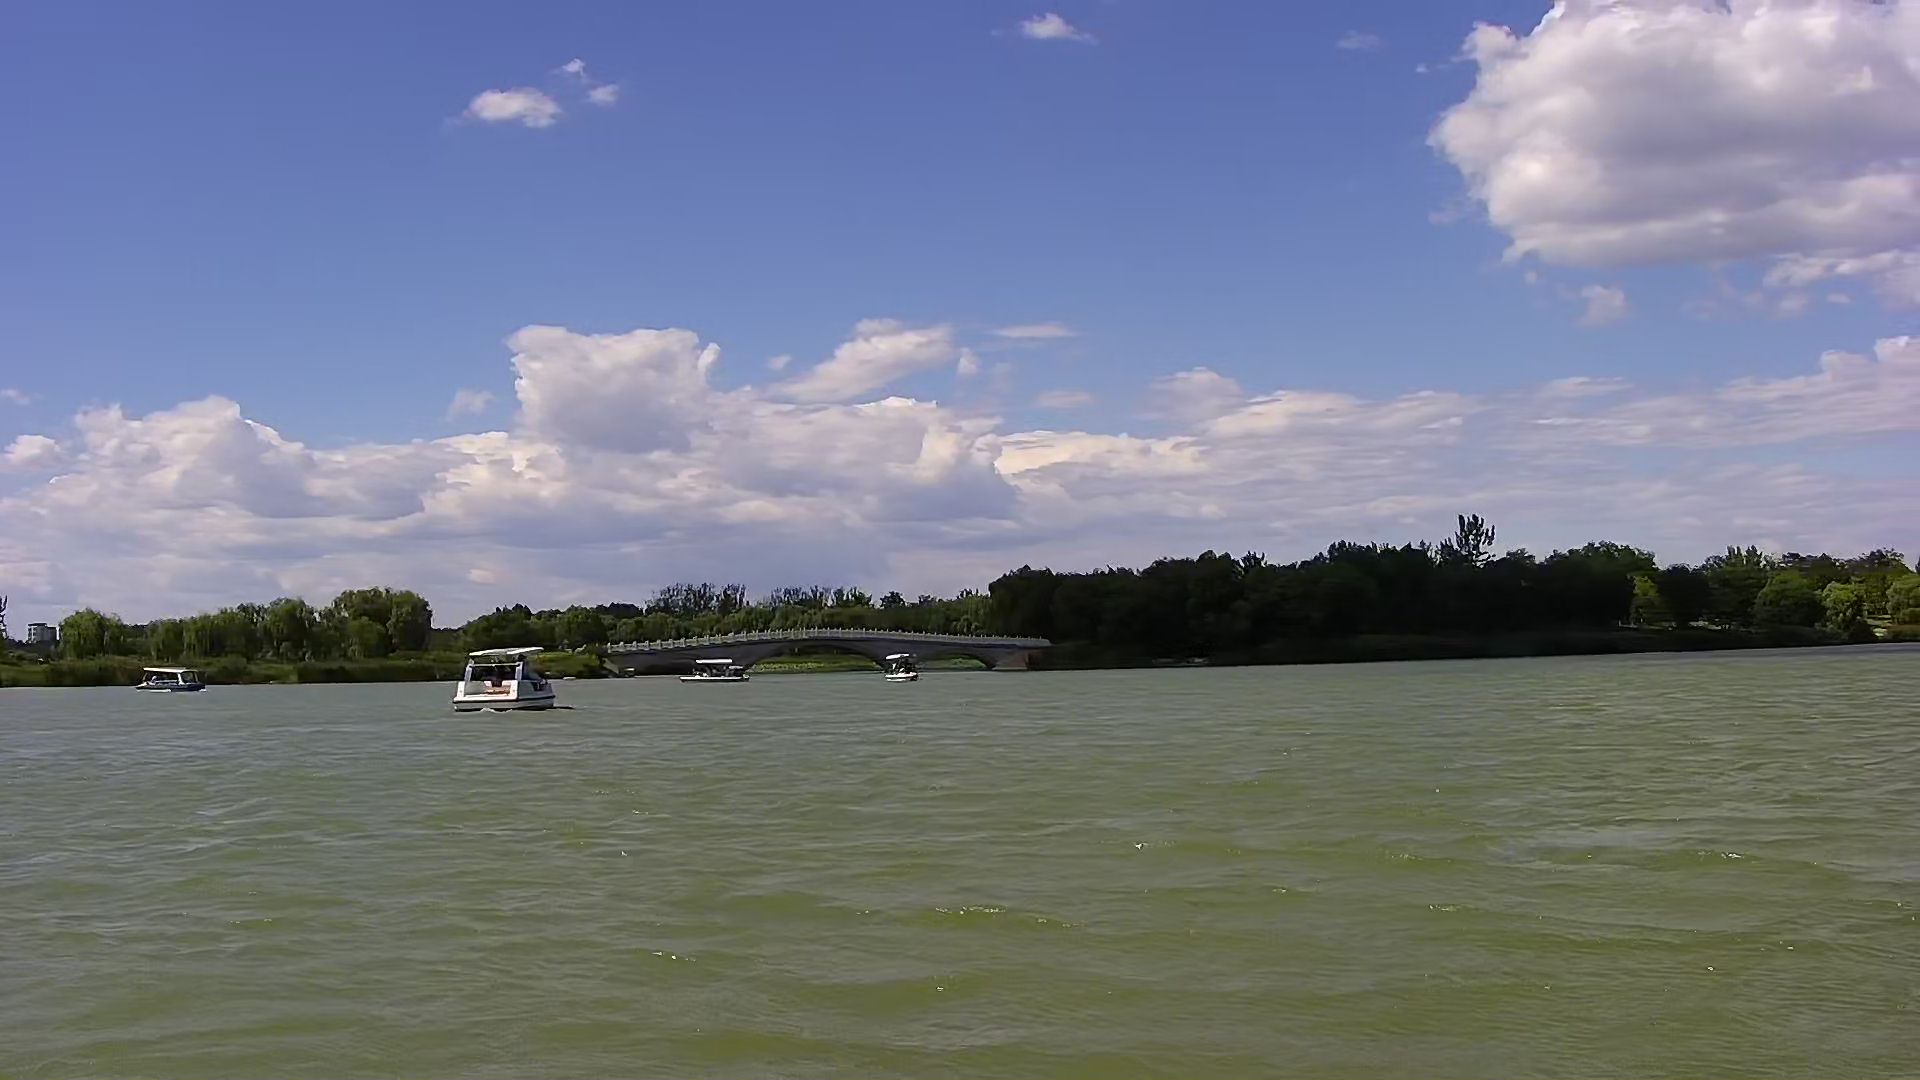boat: (448, 641, 553, 717), (131, 665, 211, 696), (680, 651, 749, 688), (878, 650, 928, 687)
bridge: (603, 628, 1058, 673)
